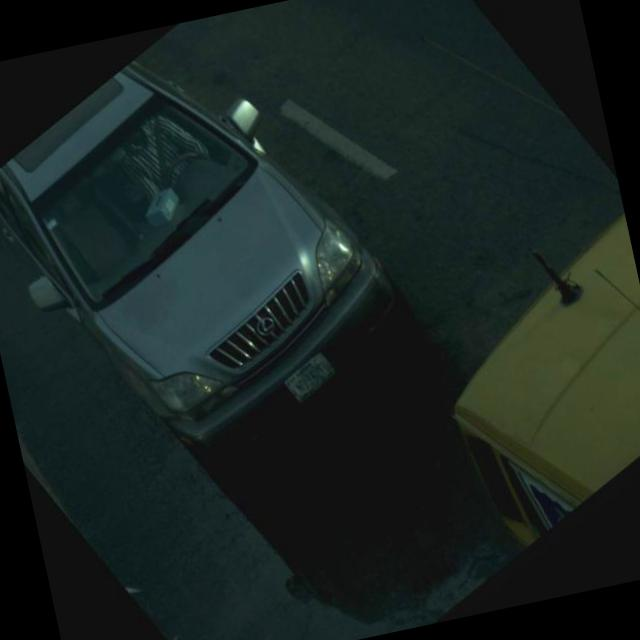person_with_seatbelt: (112, 95, 235, 237)
